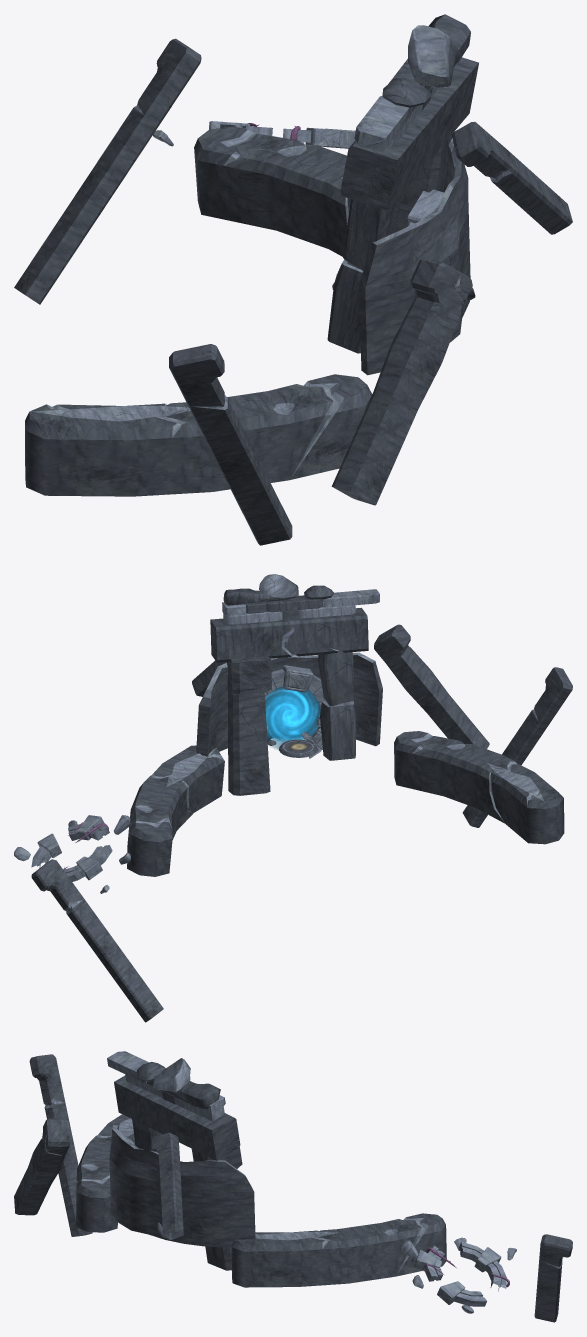
The model's file is s0_AG_Platform_Avatars_Art_01.glb.
3 renders of one model, top to bottom at view 1: azimuth 30°, elevation 25°; view 2: azimuth 150°, elevation 25°; view 3: azimuth 270°, elevation 25°, orthographic. The views are drawn at different scales.
Parts seen in each view (by area): view 1: node_AG_Platform_Avatars_Art, node_Str_Ruins_02, node_Str_Portal_02, node_Str_Portal_03; view 2: node_AG_Platform_Avatars_Art, node_Str_Ruins_02, node_Str_Portal_01, node_Str_Portal_02, node_Str_Portal_03, node_Str_Portal_Stones, node_Str_Platform_Avatars; view 3: node_AG_Platform_Avatars_Art, node_Str_Ruins_02, node_Str_Portal_02, node_Str_Portal_Stones.
Part boxes in pixels (box(x1,y1,x2,y2)): node_AG_Platform_Avatars_Art: box(14, 14, 572, 545); node_Str_Ruins_02: box(359, 138, 470, 375); node_Str_Portal_02: box(209, 121, 355, 148); node_Str_Portal_03: box(407, 189, 443, 226); node_AG_Platform_Avatars_Art: box(31, 574, 572, 1022); node_Str_Ruins_02: box(196, 652, 382, 756); node_Str_Portal_01: box(265, 686, 320, 749); node_Str_Portal_02: box(31, 815, 112, 881); node_Str_Portal_03: box(264, 665, 325, 758); node_Str_Portal_Stones: box(14, 815, 130, 893); node_Str_Platform_Avatars: box(279, 739, 317, 757); node_AG_Platform_Avatars_Art: box(14, 1051, 572, 1322); node_Str_Ruins_02: box(109, 1125, 255, 1247); node_Str_Portal_02: box(413, 1241, 509, 1306); node_Str_Portal_Stones: box(400, 1237, 516, 1313).
Size of what is drawn, in the model's own units: 34.67 by 25.65 by 44.76.
Materials: 5 (5 with a texture image).
